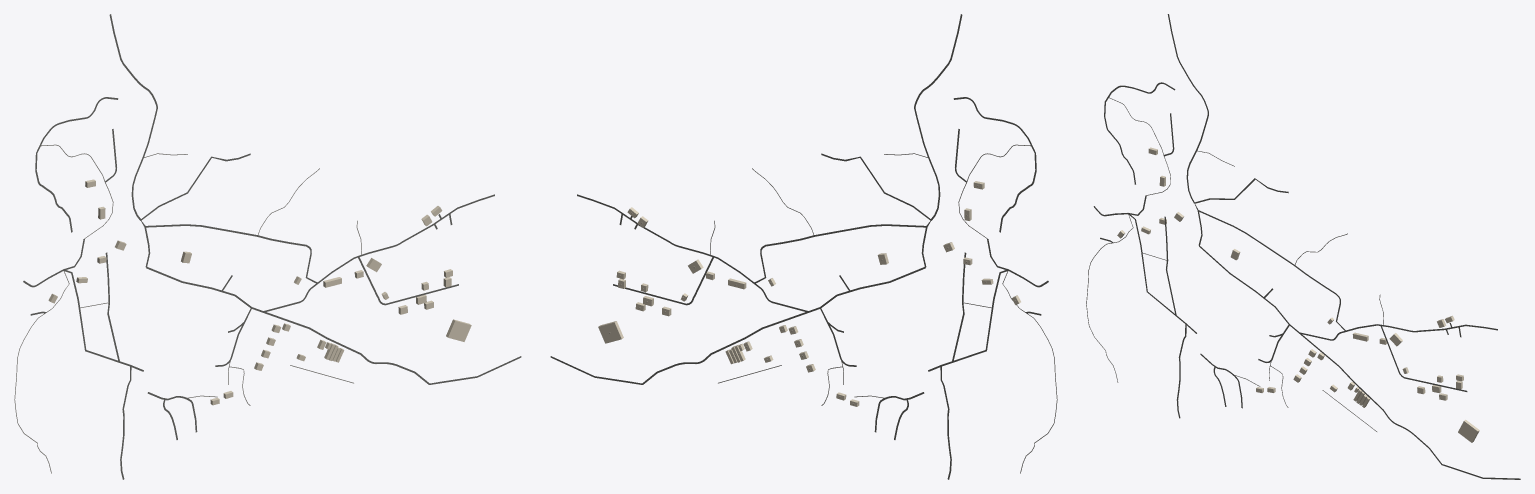
The model's file is historic-palestine-09_28_3513_3220.glb.
3 views of the same model, side by side, from view 1: azimuth 30°, elevation 25°; view 2: azimuth 150°, elevation 25°; view 3: azimuth 330°, elevation 25° (orthographic). The views are drawn at different scales.
Parts seen in each view (by area): view 1: Road .005, Road .013; view 2: Road .005, Road .013; view 3: Road .005.
Part boxes in pixels (<box>): Road .005: <box>146,267,521,384</box>; Road .013: <box>264,194,494,311</box>; Road .005: <box>550,267,925,384</box>; Road .013: <box>577,194,807,311</box>; Road .005: <box>1199,245,1520,479</box>.
Bounding box in the file's own units: 1016 × 898 × 9.09.
